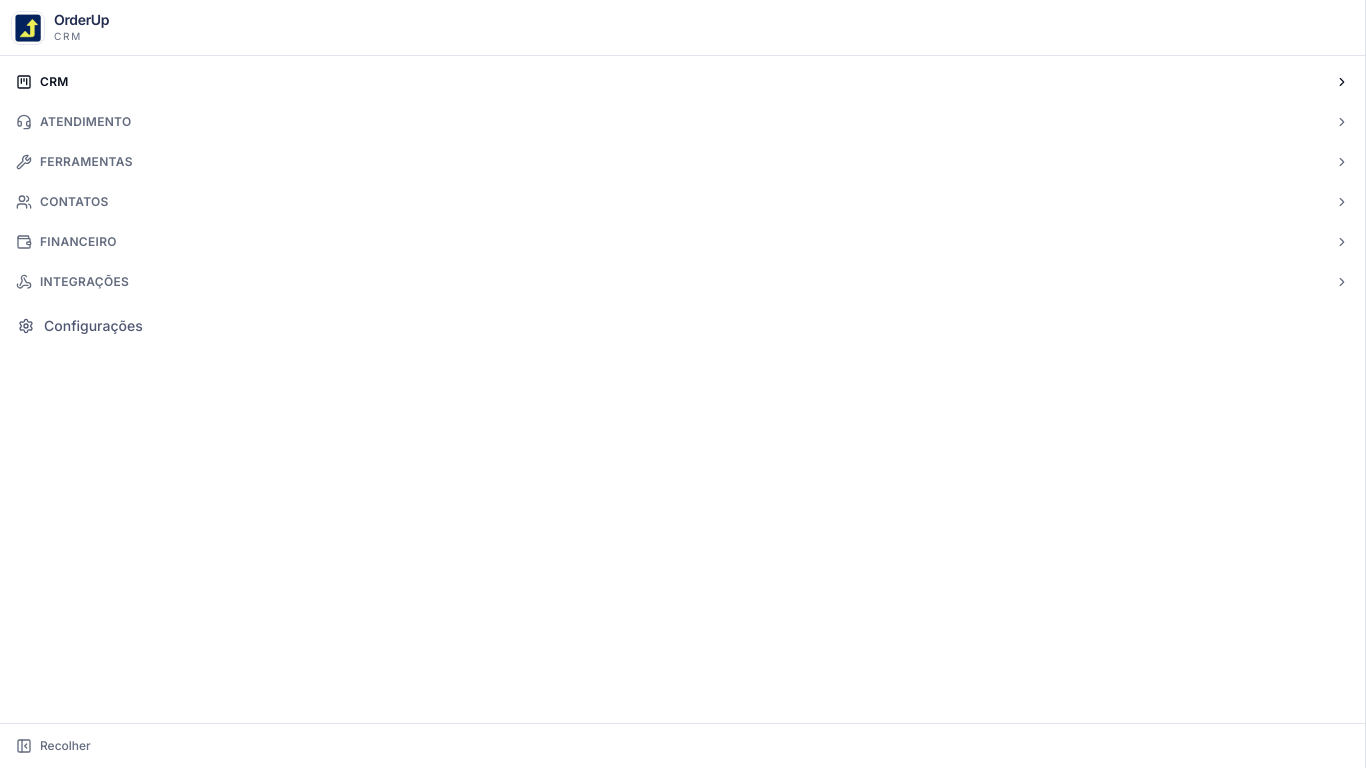
it: Sidebar › expands each navigation group independently and persists its state
Click the button "CRM".
click(24, 82)  # box x1=8 y1=68 x2=1357 y2=96
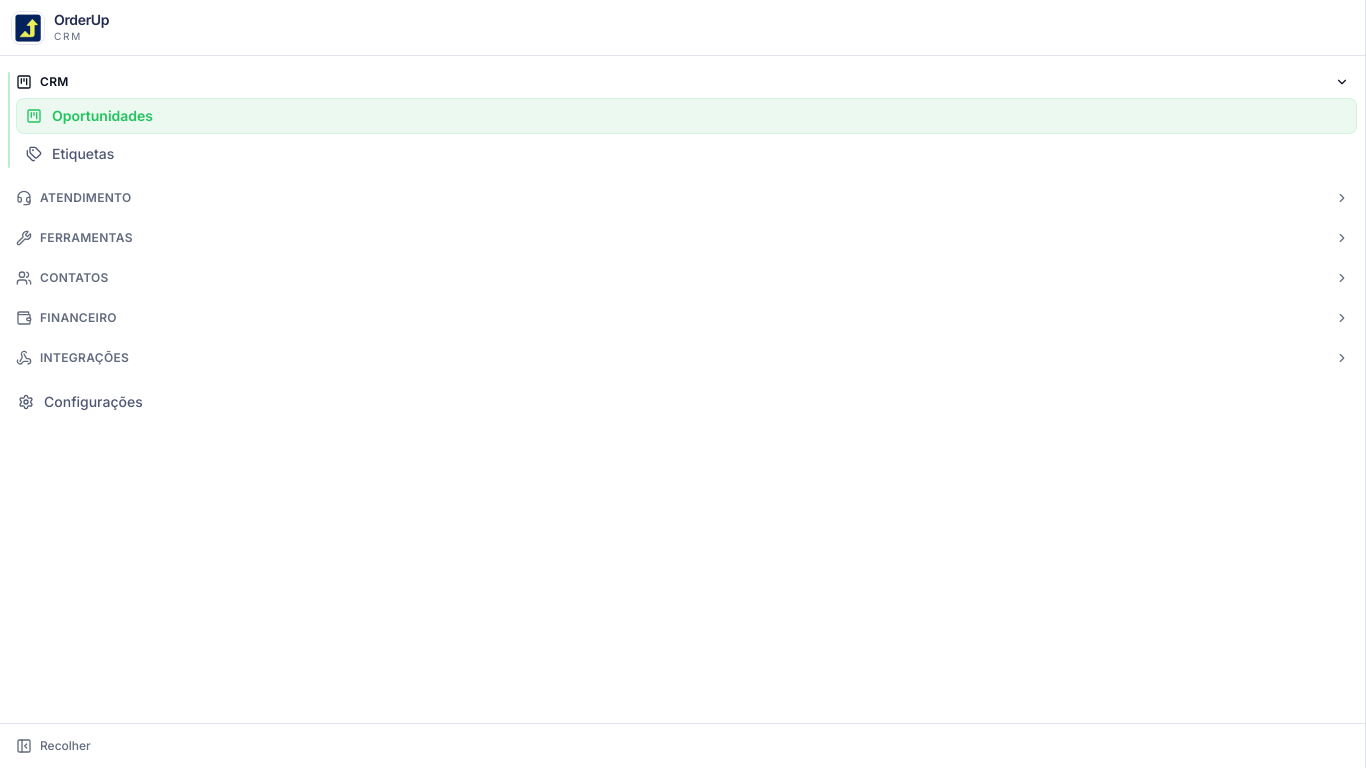
Expected: the button "CRM" is expanded, x1=8 y1=68 x2=1357 y2=96
Expected: the link "Oportunidades" is shown, x1=16 y1=98 x2=1357 y2=134
Click the button "Atendimento".
click(86, 198)  # box x1=8 y1=184 x2=1357 y2=212
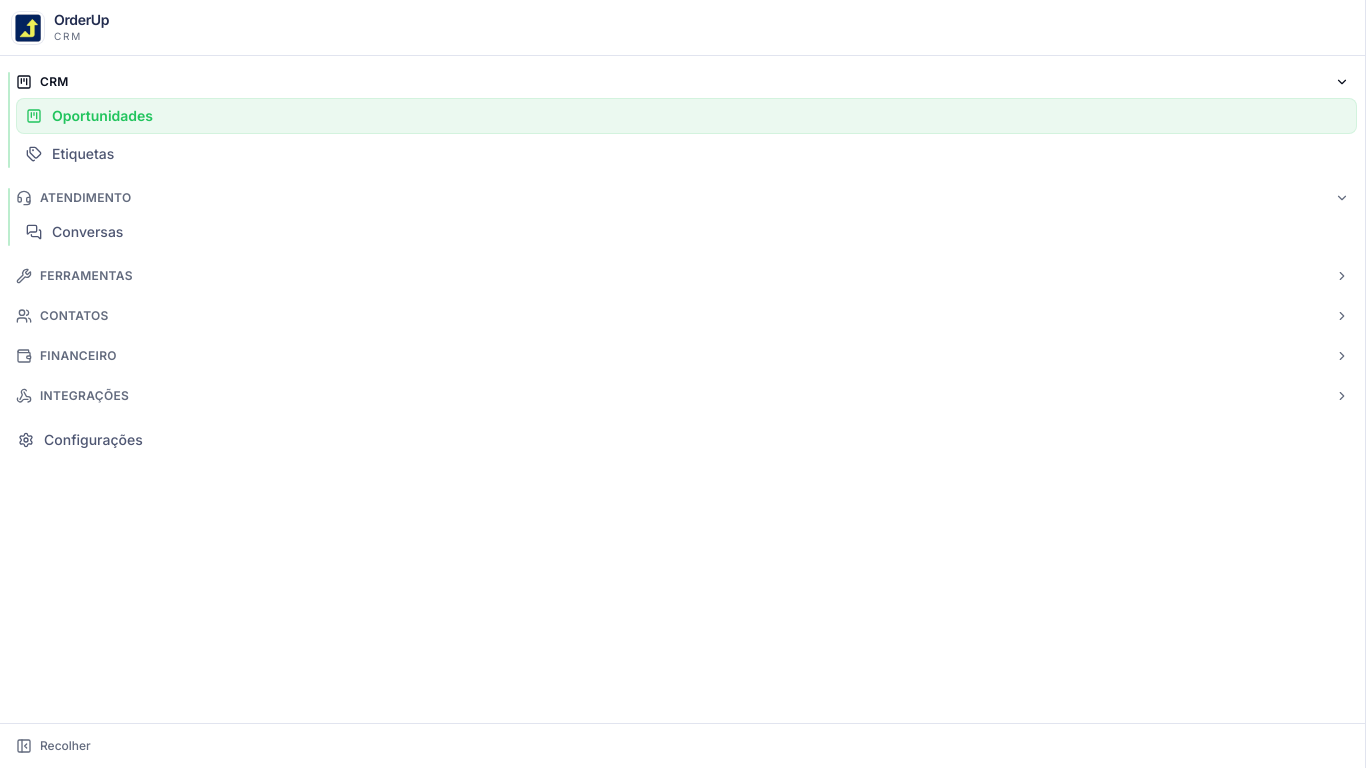
Expected: the button "CRM" is expanded
Expected: the button "Atendimento" is expanded, x1=8 y1=184 x2=1357 y2=212
Click the button "CRM".
click(24, 82)  # box x1=8 y1=68 x2=1357 y2=96
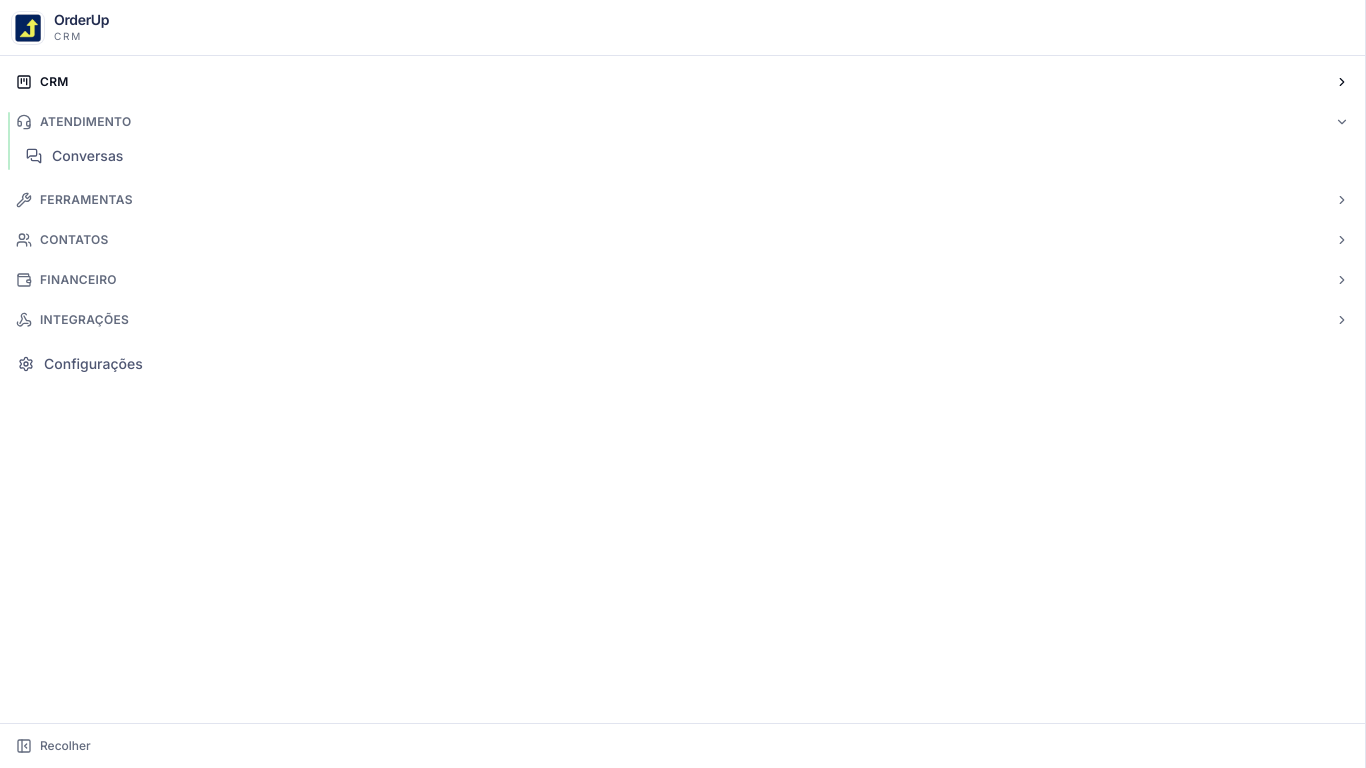
Expected: the button "Atendimento" is expanded, x1=8 y1=108 x2=1357 y2=136
Expected: the button "CRM" is collapsed, x1=8 y1=68 x2=1357 y2=96
Expected: the link "Oportunidades" is gone
